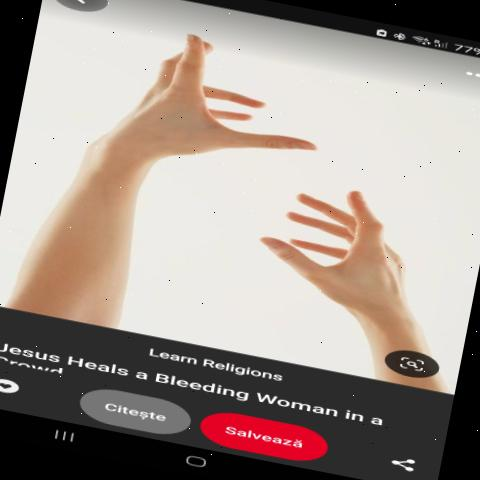hands: (211, 154, 467, 360), (85, 0, 341, 186)
